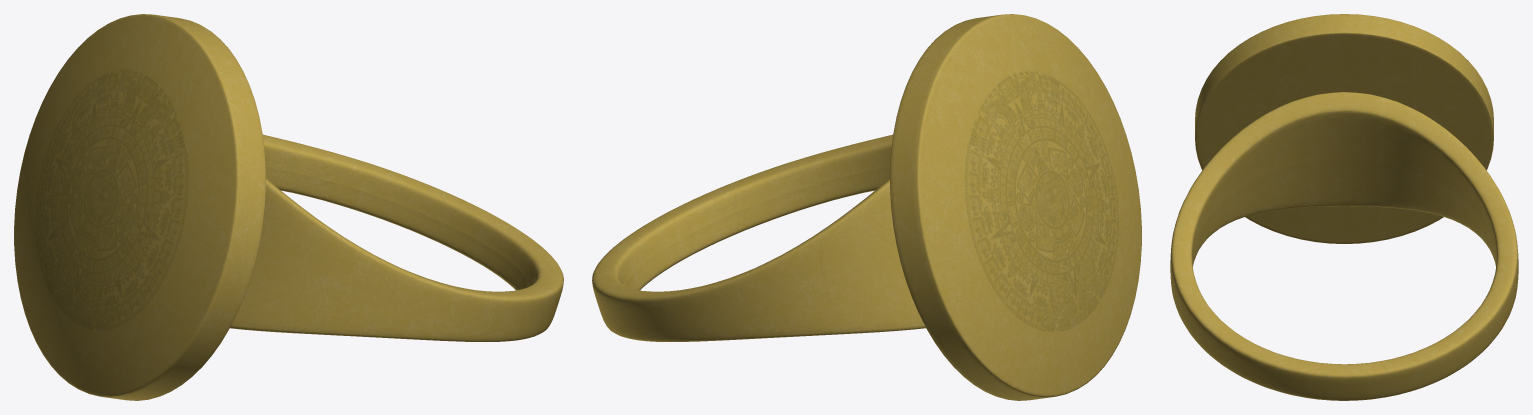
3 renders of one model, left to right at view 1: azimuth 30°, elevation 25°; view 2: azimuth 150°, elevation 25°; view 3: azimuth 270°, elevation 25°, orthographic. The views are drawn at different scales.
Parts seen in each view (by area): view 1: Sphere001, Anel1; view 2: Sphere001, Anel1; view 3: Anel1, Sphere001.
Boxes of the visible parts, bbox=[...] form: Sphere001: bbox=[14, 14, 265, 400]; Anel1: bbox=[230, 134, 563, 341]; Sphere001: bbox=[890, 14, 1141, 400]; Anel1: bbox=[592, 134, 925, 341]; Anel1: bbox=[1170, 92, 1518, 400]; Sphere001: bbox=[1195, 14, 1493, 243].
Bounding box in the file's own units: 2 × 1.4 × 1.68.
Materials: 2 (2 with a texture image).
